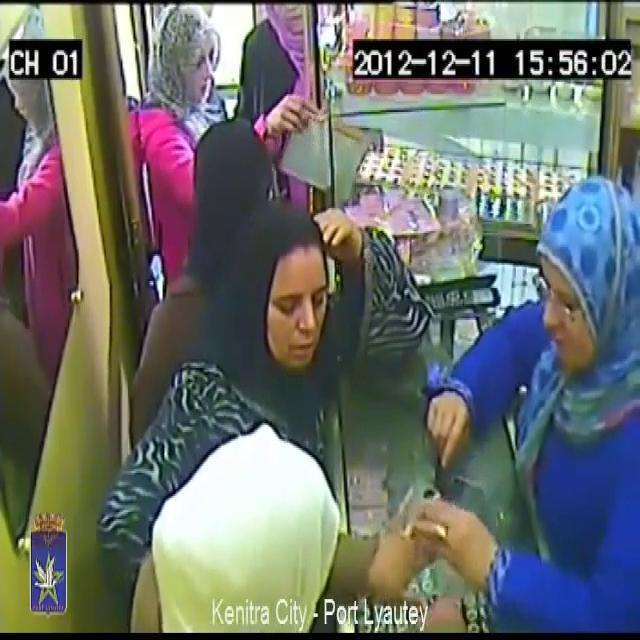Product: (272, 101, 363, 201)
normal: (464, 151, 640, 640), (116, 410, 445, 640), (248, 218, 372, 424), (184, 87, 279, 278)
shoplifting: (138, 0, 355, 266)
